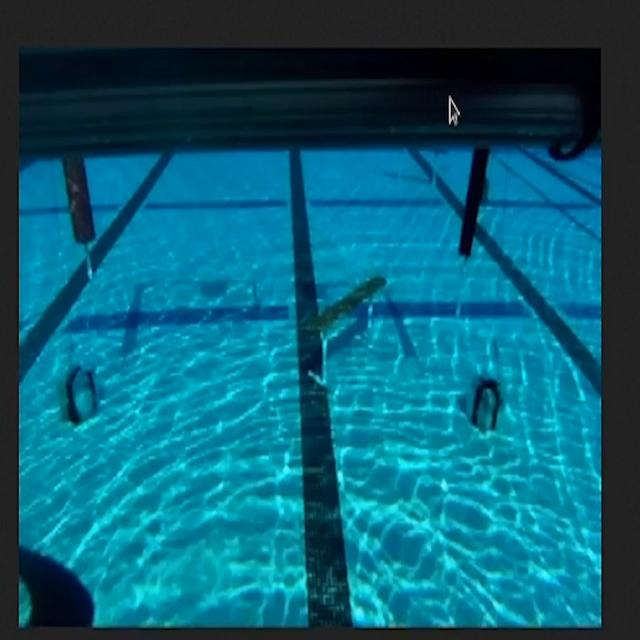Gate: (45, 84, 505, 294)
Path: (288, 265, 396, 393)
